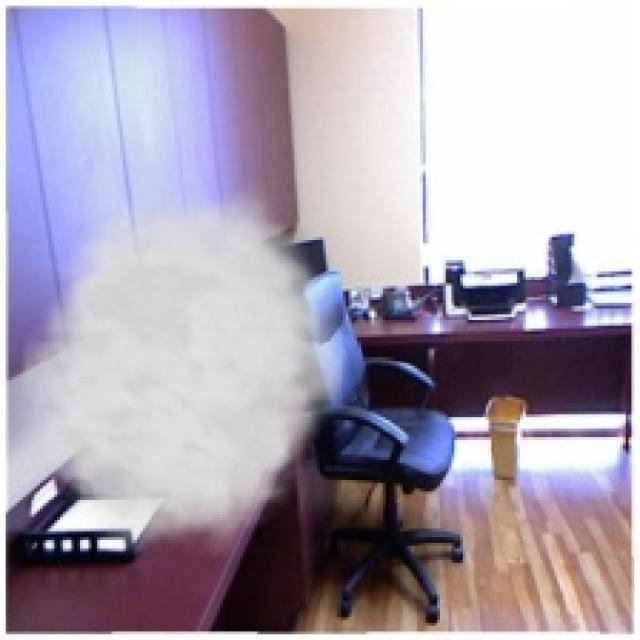Smoke: (2, 180, 358, 557)
